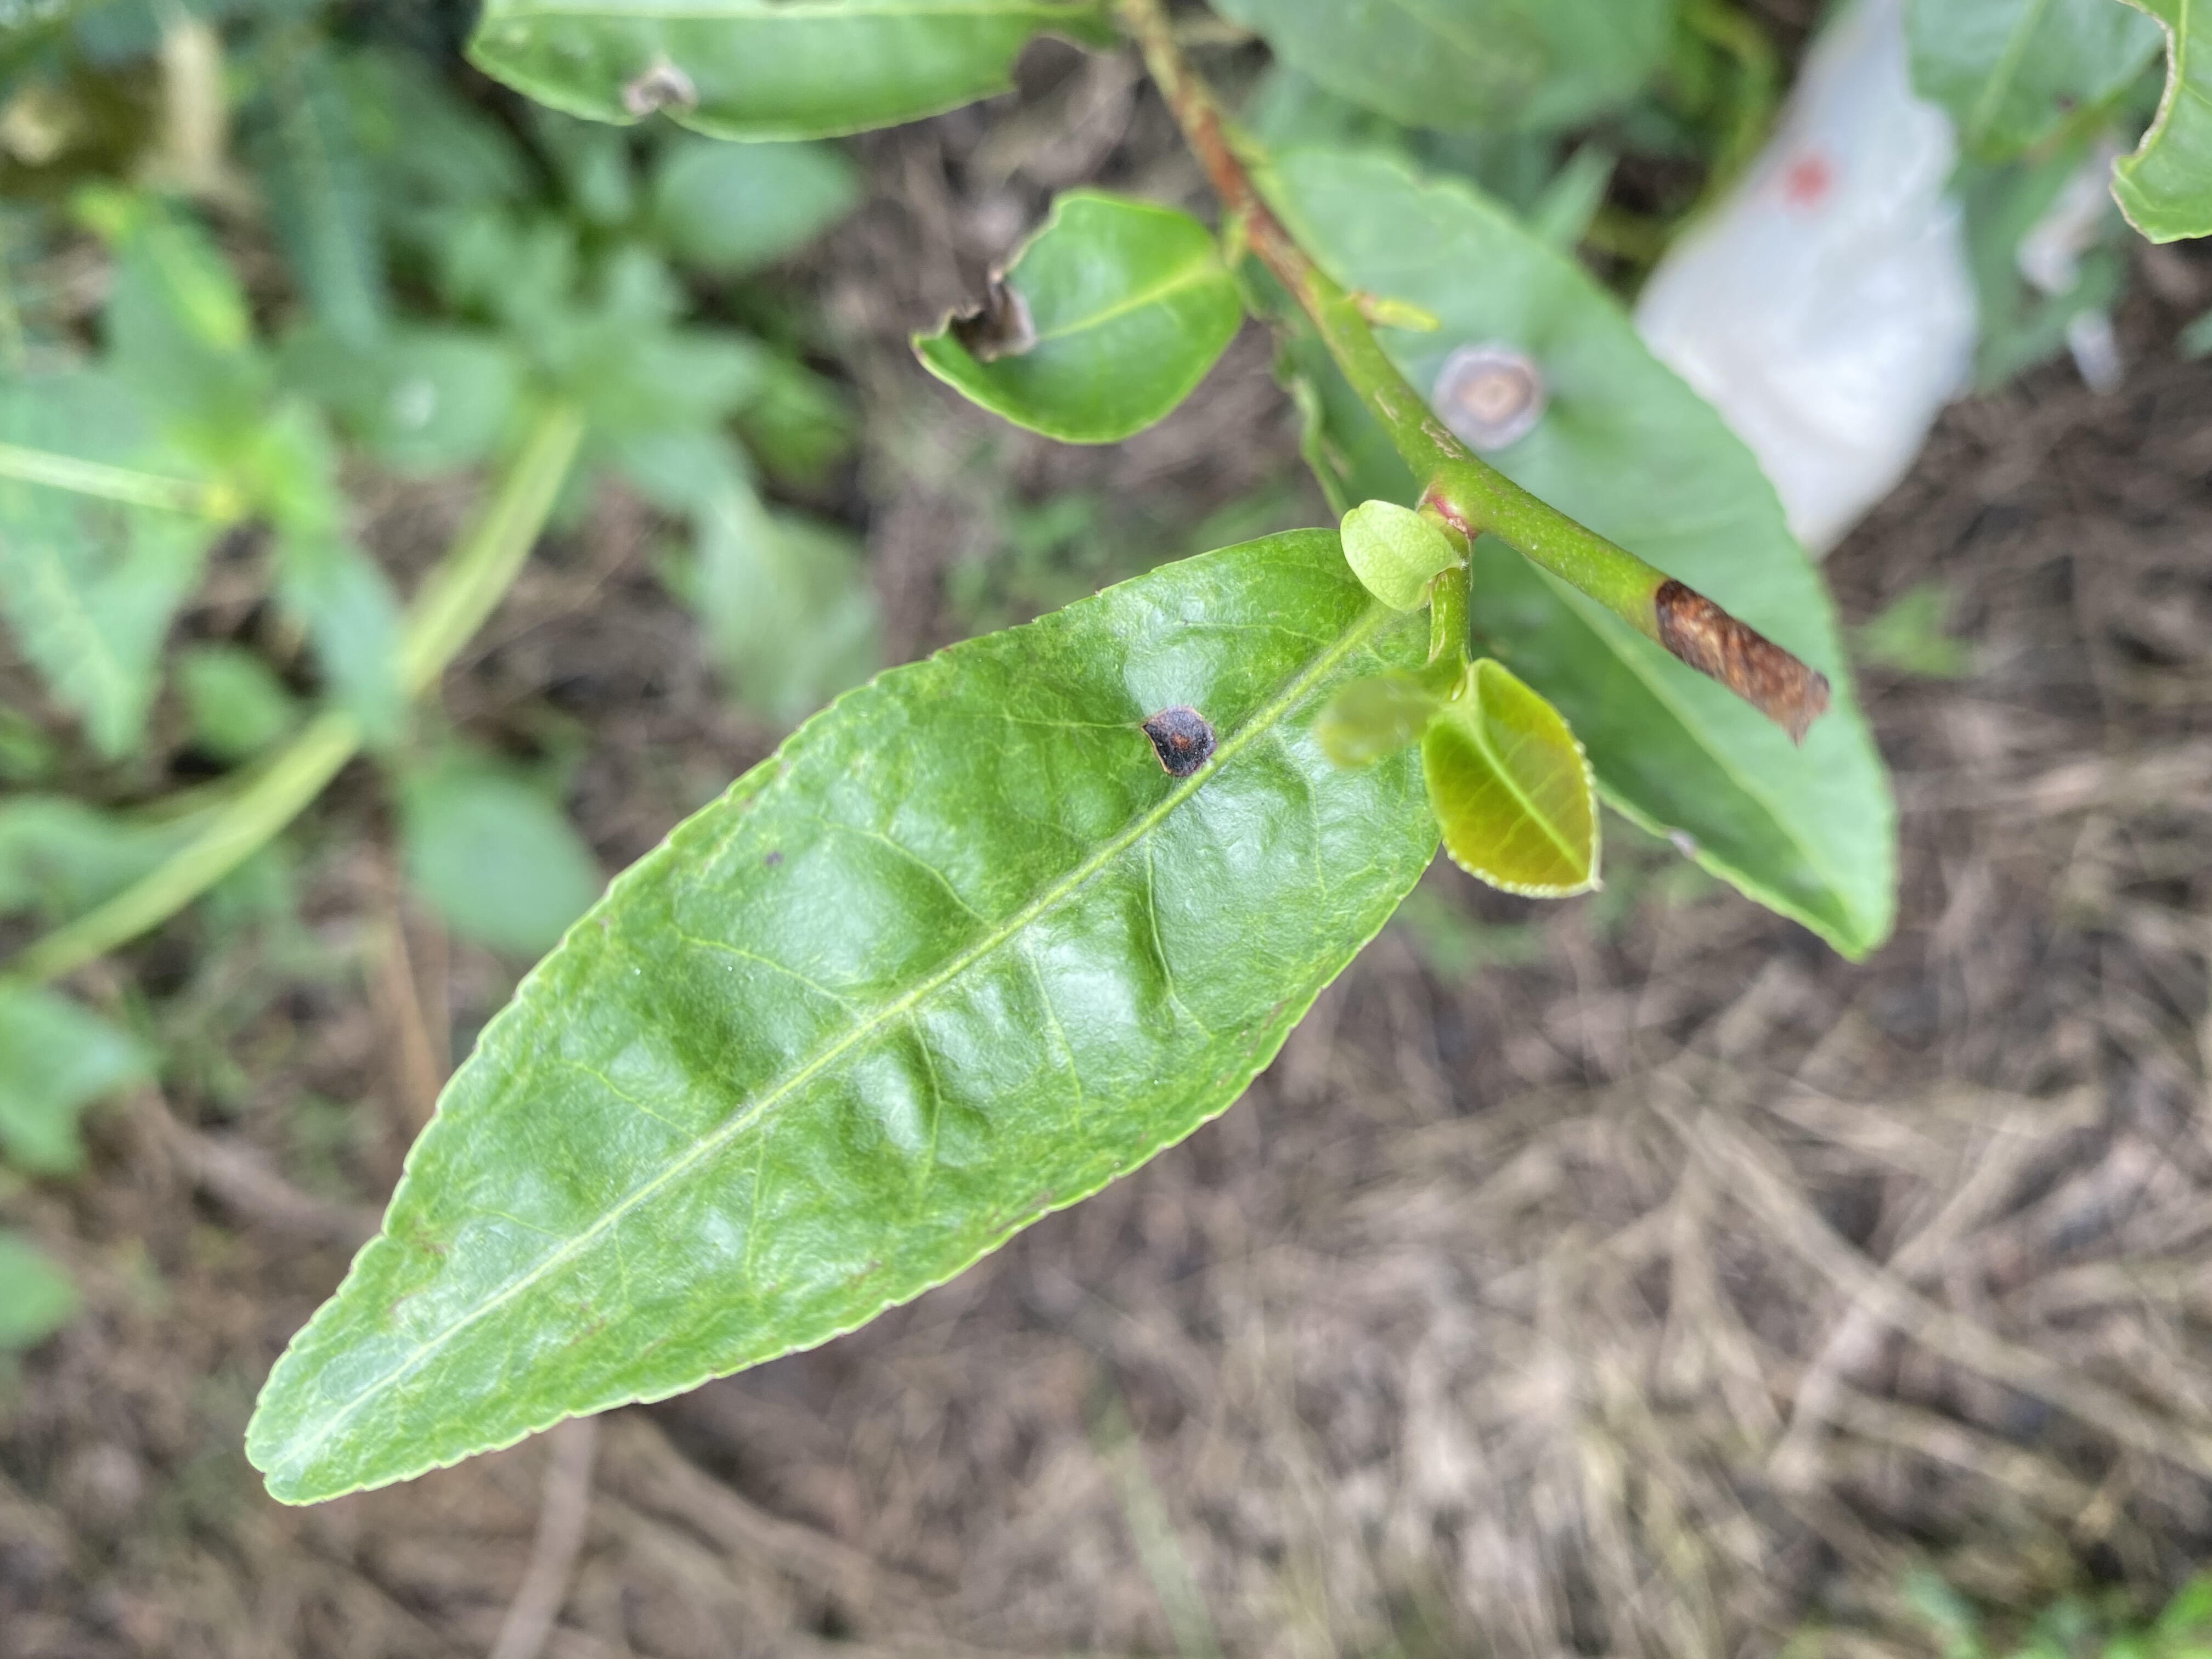chihuo_high: (462, 2, 1122, 143)
healthy: (1423, 657, 1602, 897)
tanju_high: (1251, 145, 1902, 958), (909, 186, 1240, 448)
tanju_low: (239, 525, 1440, 1506)
